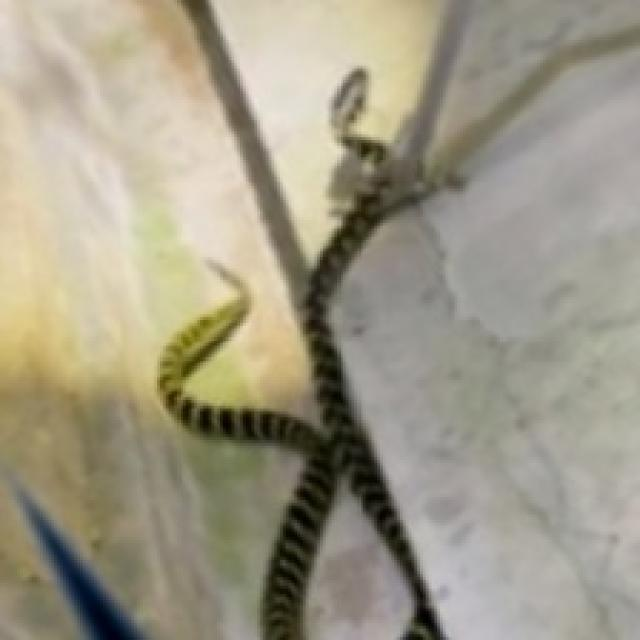mangrove cat snake: (157, 69, 443, 637)
